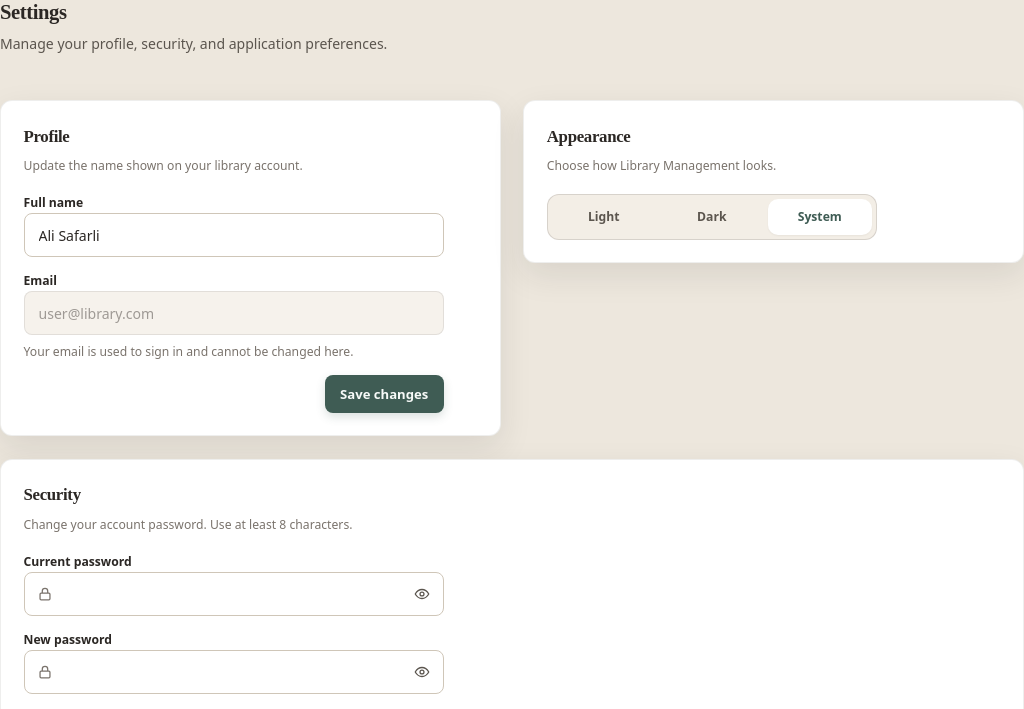
Test: SettingsPage › shows an API error when profile update fails
Replace the text in the field labelled "Full name" with "New Name" at (234, 235), box 24,213 -> 444,257
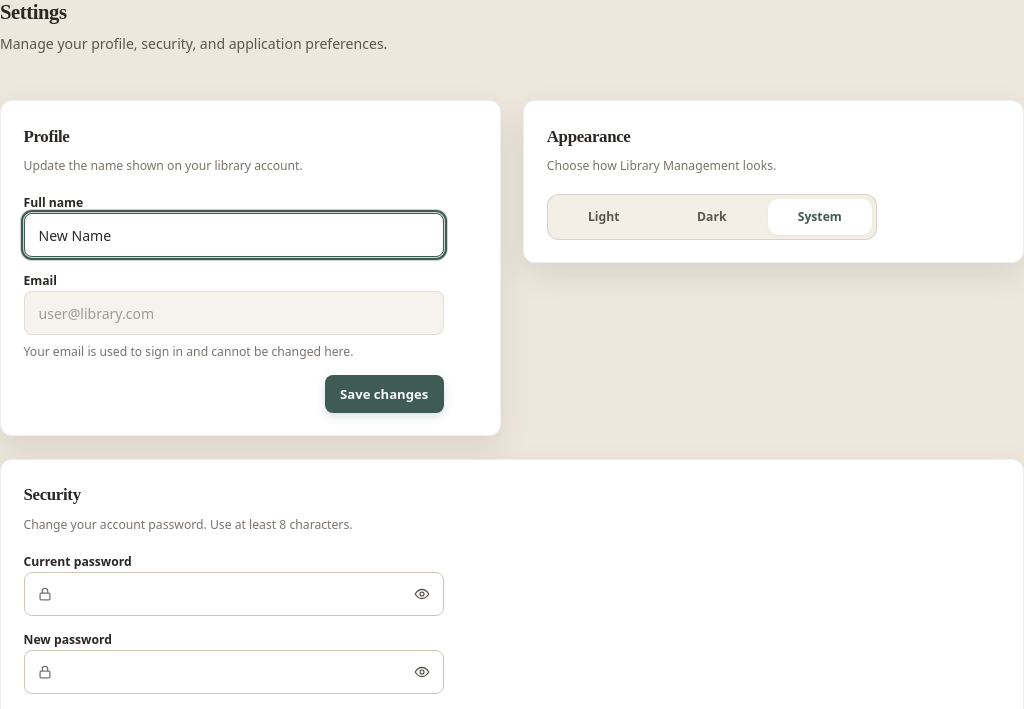
Click the button "Save changes" at (384, 394), box 325,375 -> 444,413
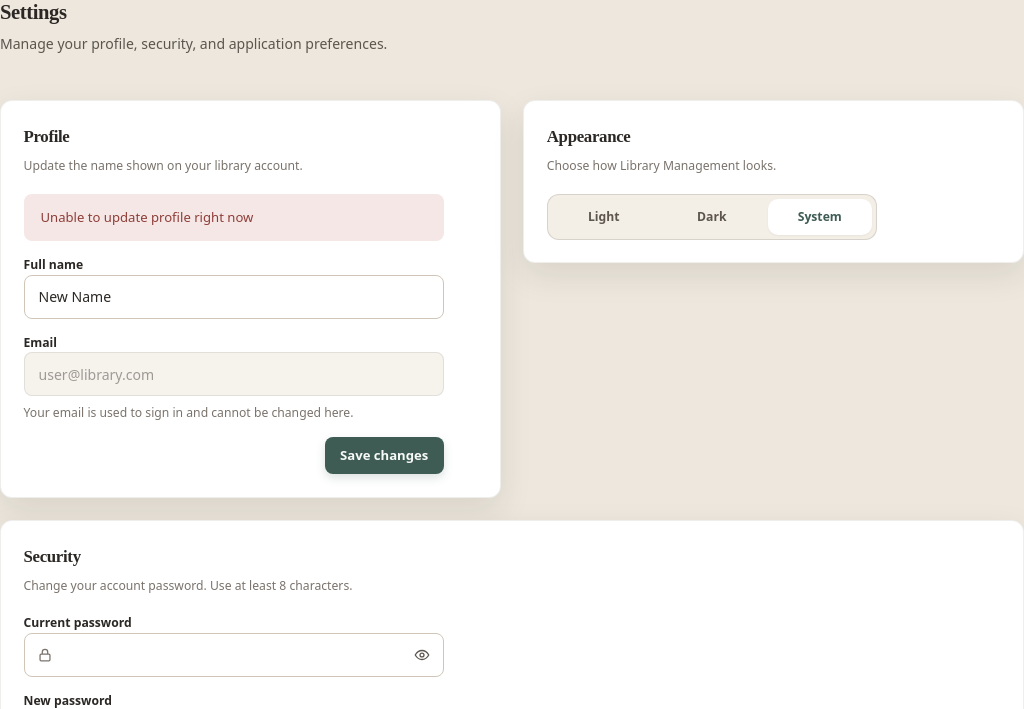
expect the message reads "Unable to update profile right now": met, box 40,208 -> 253,226
